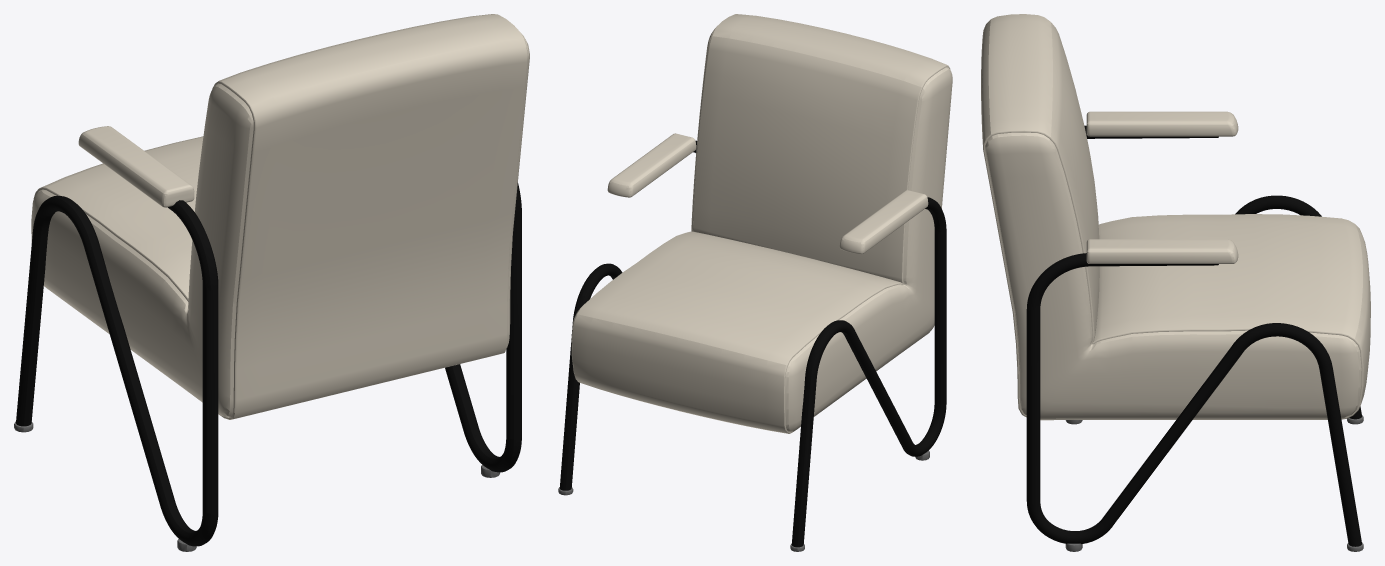
The model's file is prop04.dae.
3 renders of one model, left to right at view 1: azimuth 30°, elevation 25°; view 2: azimuth 150°, elevation 25°; view 3: azimuth 270°, elevation 25°, orthographic. The views are drawn at different scales.
Parts seen in each view (by area): view 1: _1d6_poltr; view 2: _1d6_poltr; view 3: _1d6_poltr.
Part boxes in pixels (x1,y1,x2,y2): _1d6_poltr: (14,14,529,551); _1d6_poltr: (558,14,952,551); _1d6_poltr: (981,14,1370,551).
Size of the model in its own units: 1.1 by 1.28 by 1.52.
